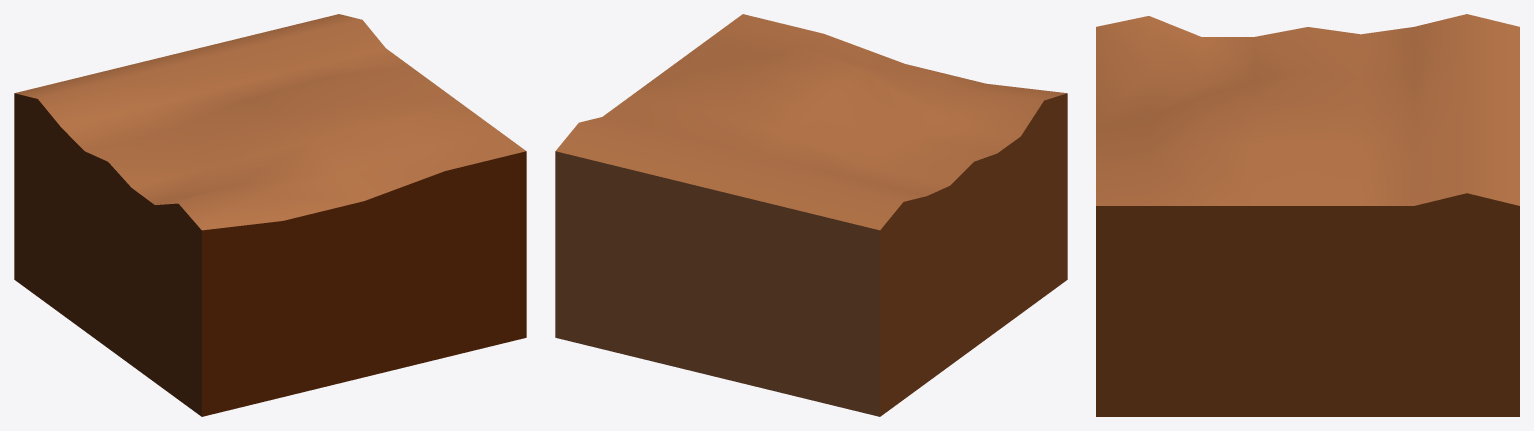
File: brownie.fbx
3 views of the same model, side by side, from view 1: azimuth 30°, elevation 25°; view 2: azimuth 150°, elevation 25°; view 3: azimuth 270°, elevation 25° (orthographic). The views are drawn at different scales.
Parts seen in each view (by area): view 1: pCube1; view 2: pCube1; view 3: pCube1.
Boxes of the visible parts, x1,y1,x2,y2 form: pCube1: [14, 14, 526, 416]; pCube1: [555, 14, 1067, 416]; pCube1: [1096, 14, 1519, 416].
Size of the model in its own units: 1 by 0.6005 by 1.
Materials: 1 (1 with a texture image).
